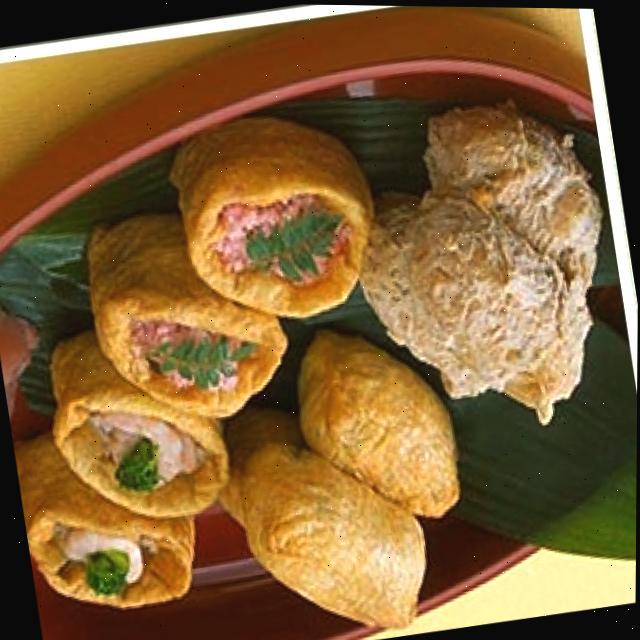寿司卷物: (0, 26, 640, 640)
